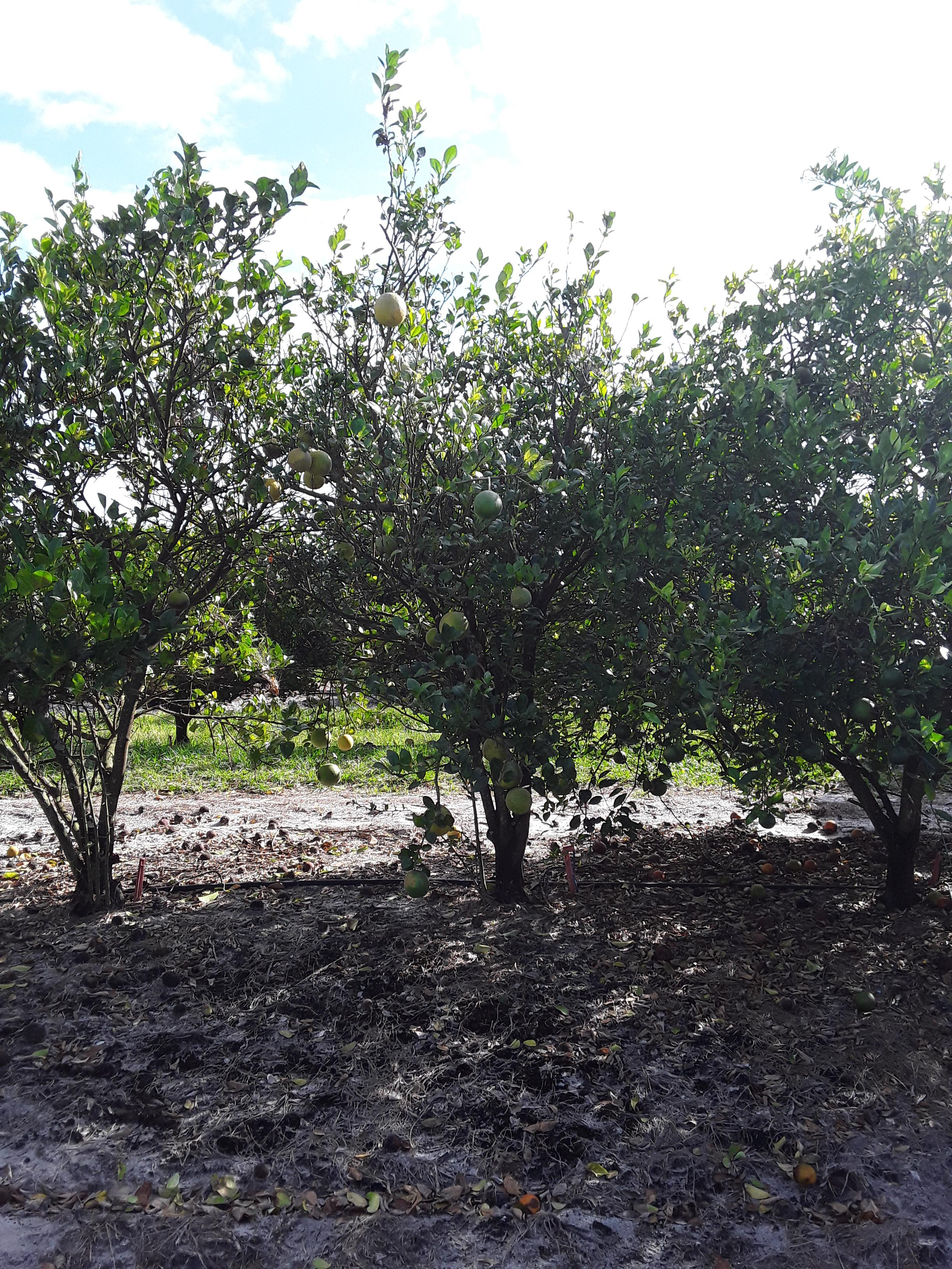fruit_on_ground: (372, 291, 411, 327), (492, 755, 526, 791), (436, 610, 474, 641), (480, 730, 514, 763), (424, 804, 457, 838), (473, 488, 505, 521), (371, 535, 406, 562), (406, 866, 433, 901), (507, 785, 535, 817), (876, 666, 910, 692), (849, 697, 880, 724), (19, 717, 52, 742), (257, 475, 287, 502), (308, 447, 333, 478), (510, 583, 534, 614), (569, 440, 596, 466), (547, 773, 575, 798), (286, 448, 315, 472), (164, 589, 192, 613), (800, 741, 826, 766), (332, 534, 356, 561), (303, 467, 329, 491), (422, 623, 444, 648), (910, 351, 935, 373), (316, 764, 342, 785), (261, 439, 286, 460), (792, 366, 815, 387), (308, 728, 336, 745), (238, 348, 260, 369), (888, 745, 911, 765), (612, 722, 634, 741), (649, 776, 668, 797), (336, 732, 355, 752), (851, 437, 870, 456), (663, 745, 682, 763), (674, 741, 688, 763), (632, 666, 650, 681), (602, 645, 618, 660), (133, 538, 149, 552), (611, 751, 628, 764), (938, 301, 952, 315)
fruit_on_tree: (516, 1192, 544, 1219), (18, 1022, 48, 1045), (852, 989, 879, 1012), (794, 1162, 817, 1188), (652, 944, 677, 962), (382, 1133, 404, 1152), (800, 856, 819, 876), (749, 930, 770, 948), (749, 885, 770, 902), (163, 970, 184, 986), (793, 894, 811, 912), (83, 973, 101, 991), (756, 914, 777, 929), (760, 860, 777, 878), (74, 950, 91, 968), (131, 927, 151, 942), (553, 1042, 574, 1056), (648, 867, 668, 881), (647, 852, 668, 865), (780, 995, 796, 1012), (785, 857, 803, 872), (275, 890, 294, 904), (938, 896, 952, 914), (746, 850, 765, 863), (359, 886, 379, 898), (822, 819, 839, 833), (590, 841, 608, 854), (250, 900, 268, 913), (728, 812, 747, 824), (746, 837, 765, 849), (7, 844, 22, 859), (206, 829, 222, 842), (928, 890, 941, 906), (599, 834, 613, 848), (303, 861, 319, 873), (302, 846, 323, 855), (851, 830, 868, 841), (277, 825, 290, 839), (738, 843, 756, 853), (112, 913, 125, 926), (804, 821, 820, 831), (173, 813, 186, 825), (235, 865, 249, 876), (166, 826, 181, 836), (274, 865, 289, 874), (193, 842, 205, 853), (201, 850, 213, 861), (253, 833, 267, 842), (630, 849, 642, 859), (155, 818, 172, 825), (198, 805, 212, 813), (268, 818, 280, 827), (268, 822, 280, 831), (220, 816, 231, 824), (314, 834, 323, 843)
